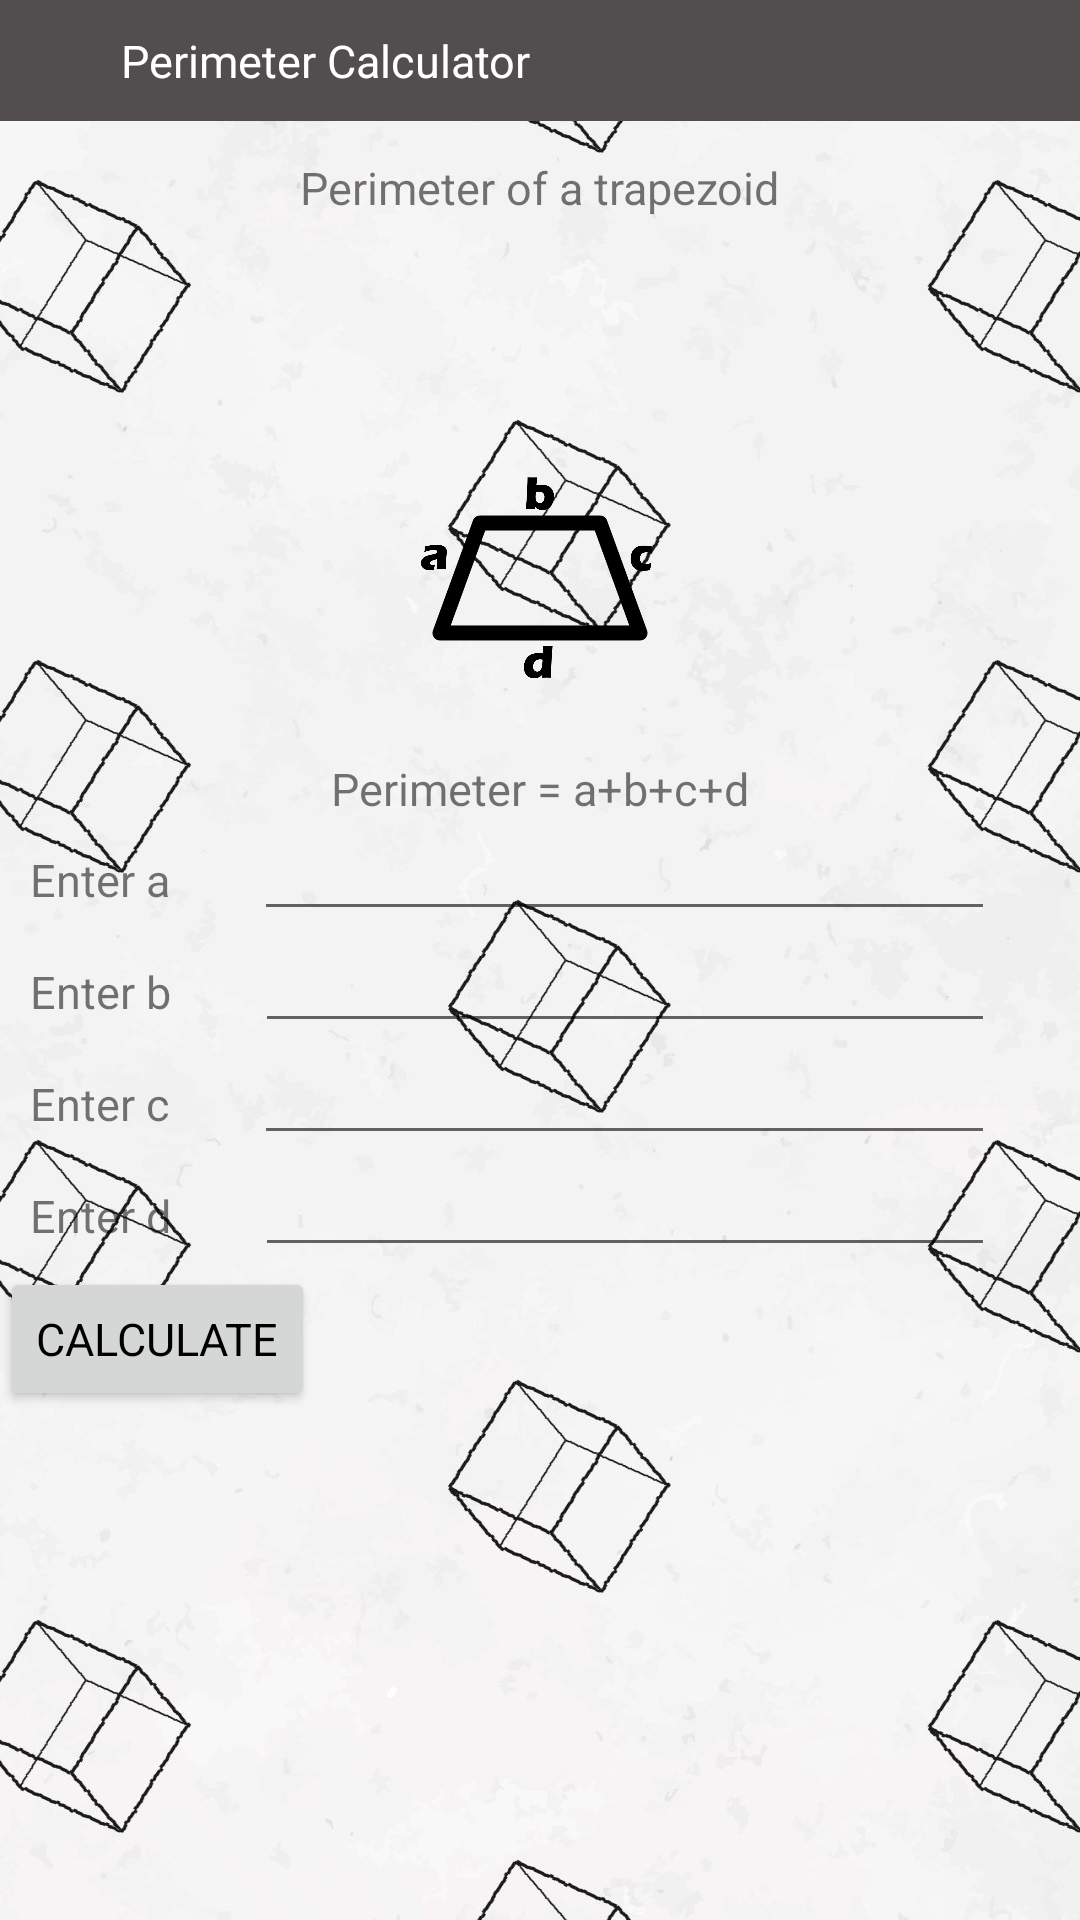

Icon click points for this 1080px×1920px phone screenshot, format (x=x, y=y):
trapezoidb: (x=540, y=568)
